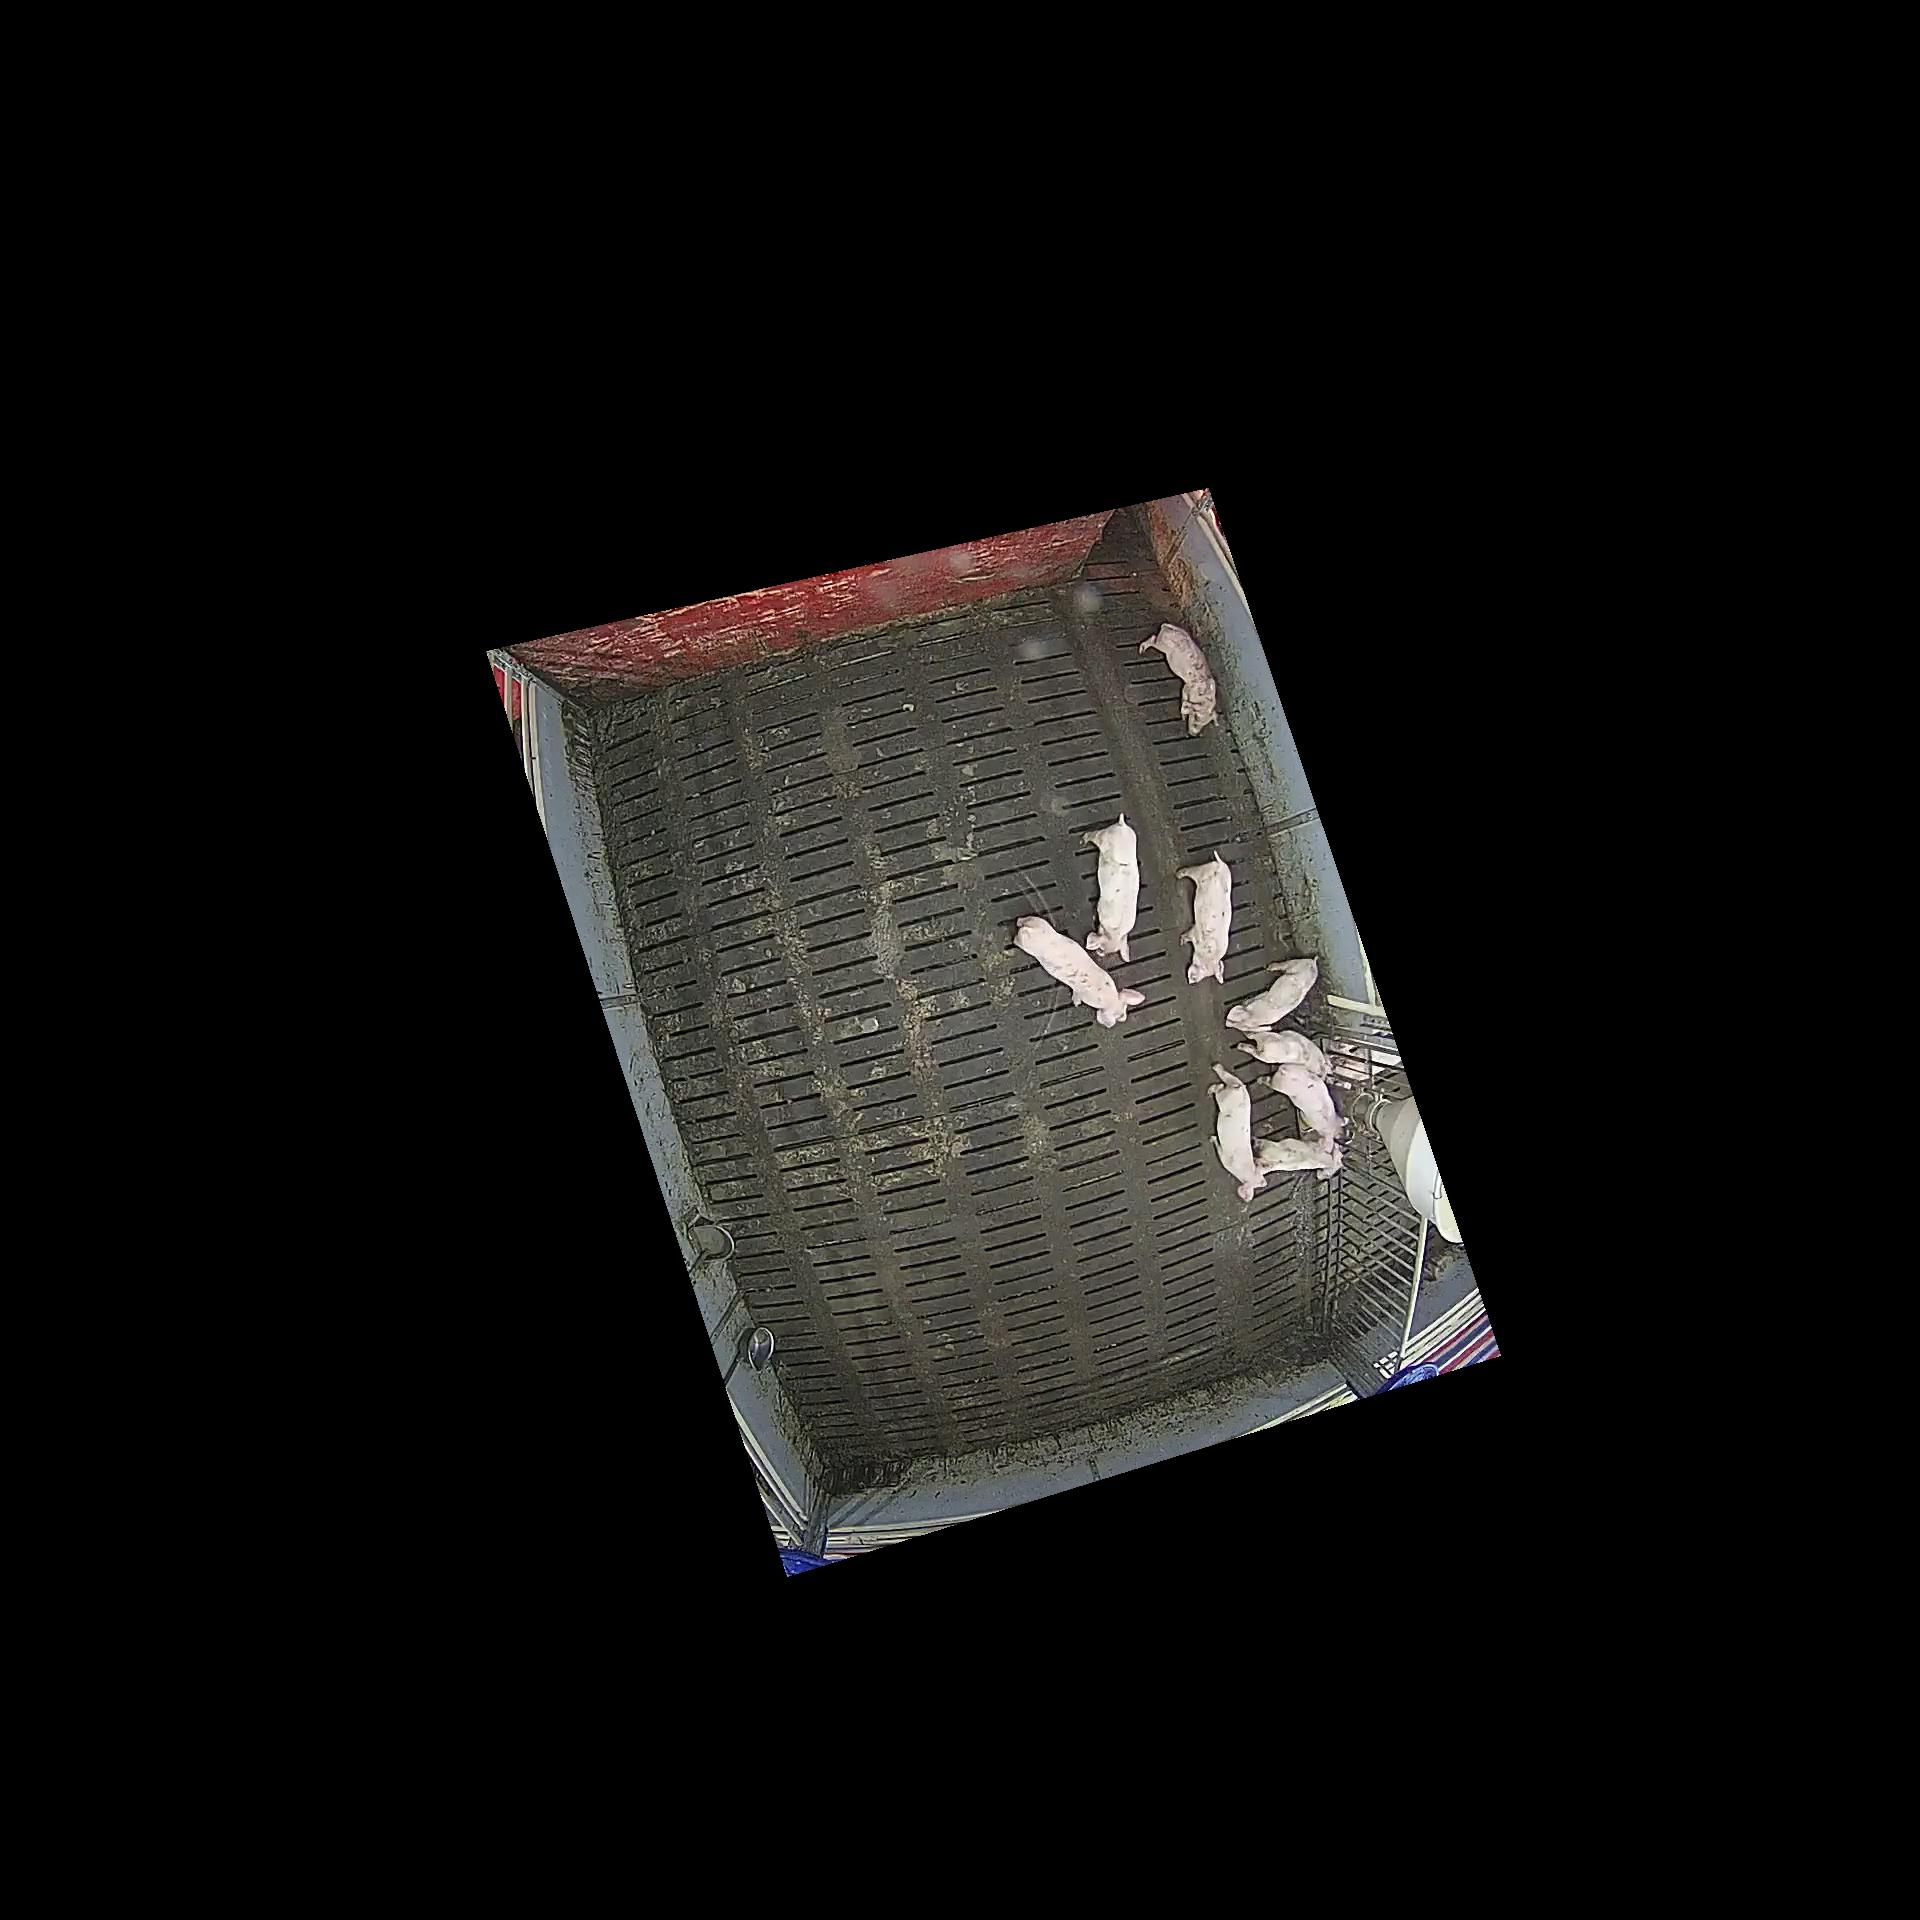pig: (1013, 916, 1146, 1029), (1138, 624, 1218, 737), (1080, 812, 1139, 964), (1210, 1064, 1268, 1204), (1176, 851, 1233, 985), (1225, 956, 1319, 1029), (1257, 1065, 1349, 1138), (1234, 1027, 1333, 1078), (1255, 1138, 1345, 1178)
